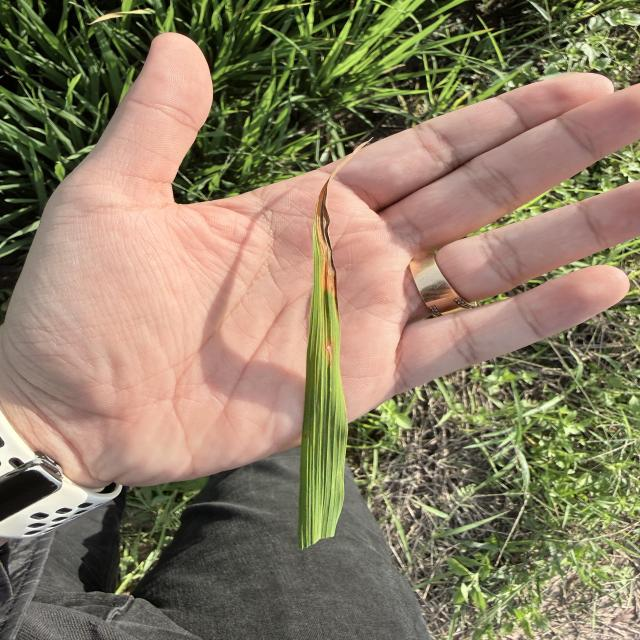Chay bia la: (314, 135, 375, 298)
